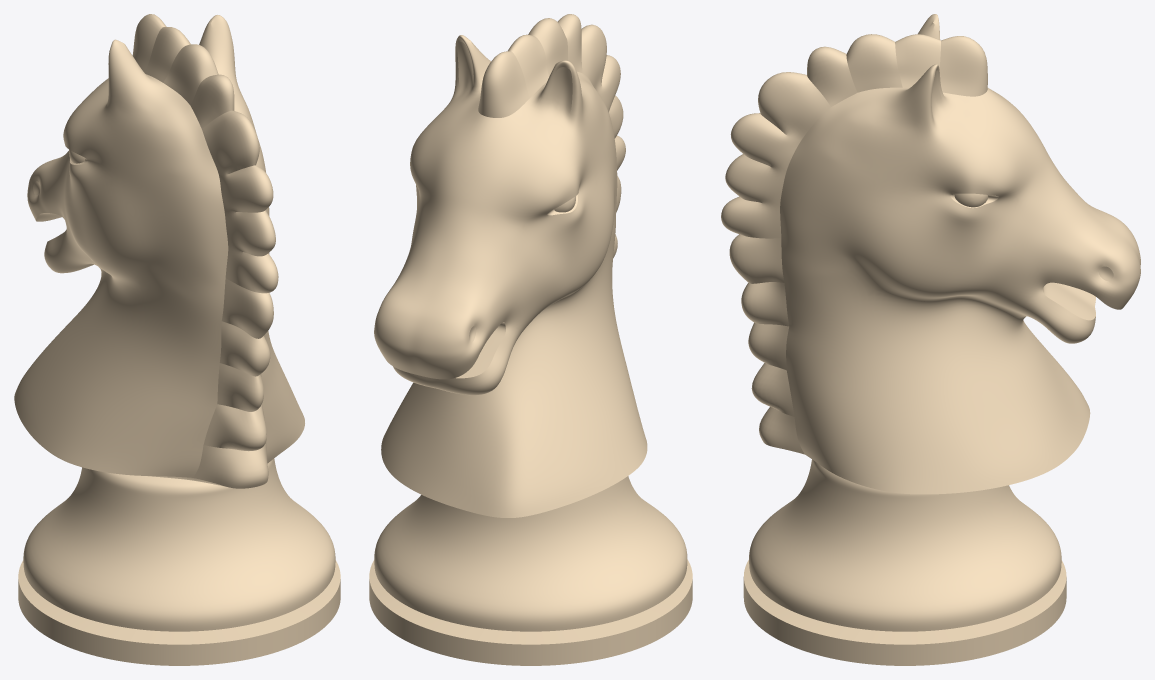
Rendered from Horse.glb.
3 renders of one model, left to right at view 1: azimuth 30°, elevation 25°; view 2: azimuth 150°, elevation 25°; view 3: azimuth 270°, elevation 25°, orthographic.
Parts seen in each view (by area): view 1: Horse; view 2: Horse; view 3: Horse.
Part boxes in pixels (box(x1,y1,x2,y2)): Horse: box(14, 14, 340, 665); Horse: box(369, 14, 692, 665); Horse: box(721, 14, 1140, 665).
Size of the model in its own units: 1.08 by 2.09 by 1.41.
